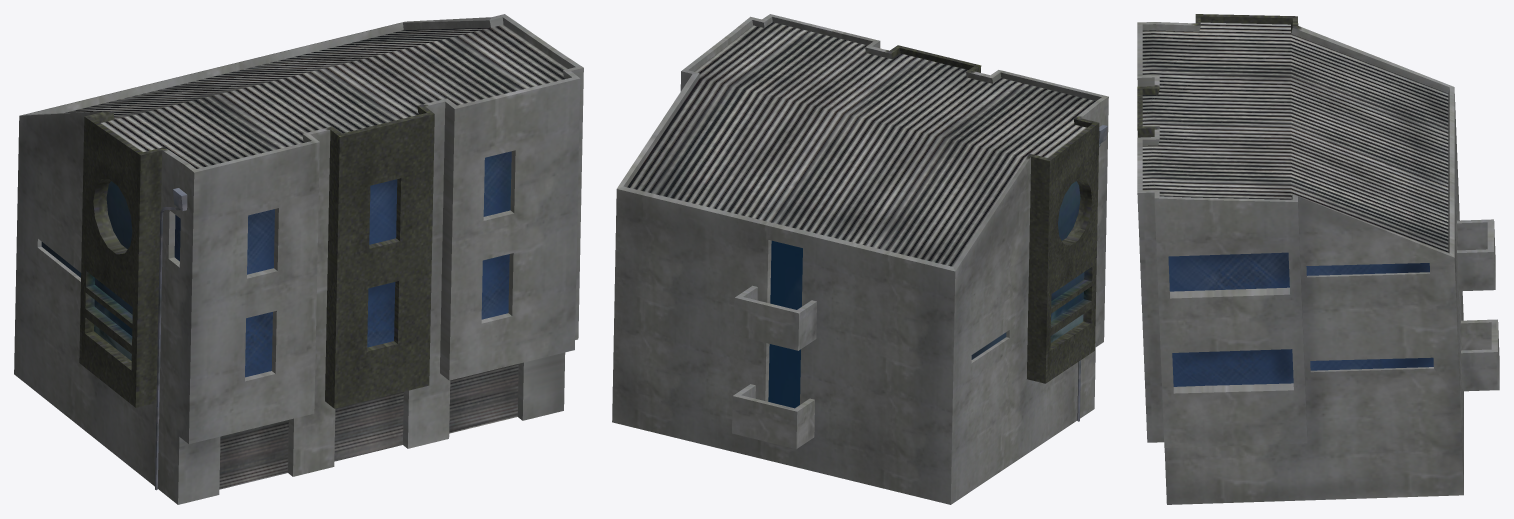
File: Building1.obj
The picture shows the model from 3 angles, left to right: view 1: azimuth 30°, elevation 25°; view 2: azimuth 150°, elevation 25°; view 3: azimuth 270°, elevation 25°; orthographic projection. The views are drawn at different scales.
Visible parts, largest first — view 1: 10091_townhome_V1_Max2008; view 2: 10091_townhome_V1_Max2008; view 3: 10091_townhome_V1_Max2008.
Part boxes in pixels (bbox=[...]): 10091_townhome_V1_Max2008: bbox=[14, 14, 583, 504]; 10091_townhome_V1_Max2008: bbox=[612, 14, 1108, 504]; 10091_townhome_V1_Max2008: bbox=[1137, 14, 1499, 504].
Size of the model in its own units: 1404 by 1101 by 1156.
Materials: 1 (1 with a texture image).
